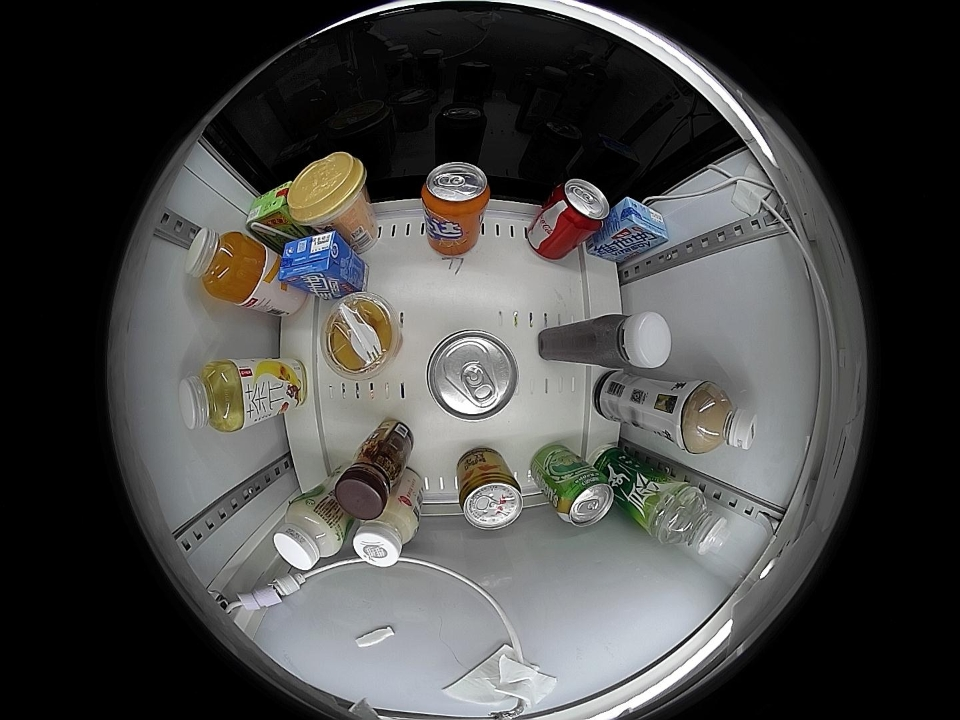chapai2: (179, 360, 248, 434)
fenda: (421, 162, 491, 220)
hongniu2: (458, 464, 523, 531)
jianjiao: (655, 486, 730, 555)
kele: (552, 179, 610, 231)
lingdukele: (424, 329, 518, 422)
lujikafei: (336, 441, 403, 519)
quchenshixiangcao: (554, 470, 614, 528)
wanglaoji: (246, 181, 290, 230)
weic: (185, 228, 268, 305)
weitanai: (279, 230, 349, 288)
weitanaiditang: (614, 196, 670, 245)
weiweidounai: (351, 500, 419, 567)
wuhounaicha: (682, 381, 758, 455)
xianguolao: (321, 293, 399, 380)
youlemei: (286, 151, 368, 228)
yousuanru: (273, 498, 346, 571)
youyanggudong: (596, 311, 672, 370)
